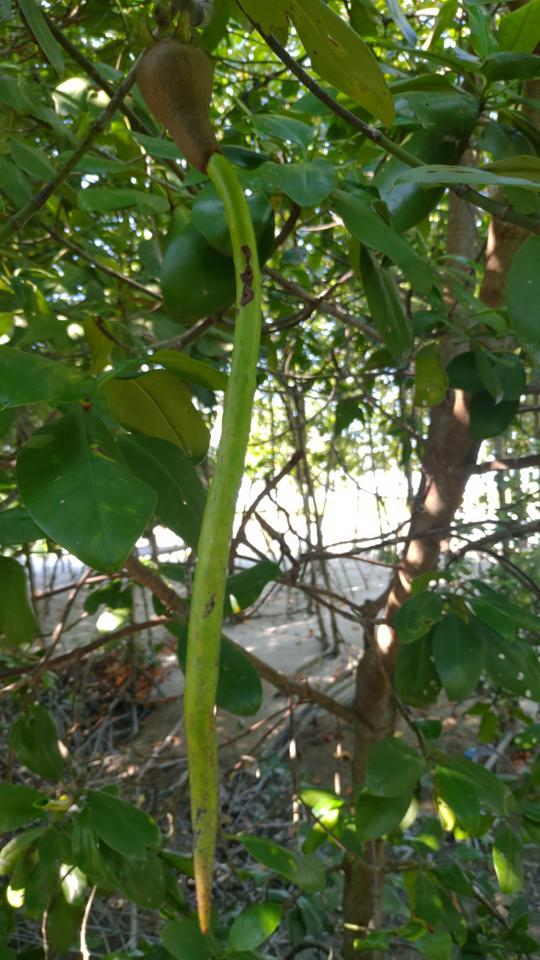mentah: (108, 6, 274, 938)
